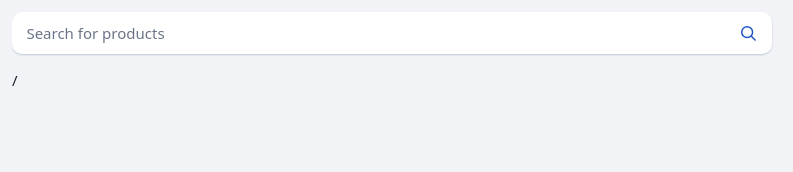
Test: SearchBox suggestions › shows initials instead of a picture for a product without an image
Type "lamp" into the dropdown named "Search products".
click(368, 33); type("lamp")  # box [12,12,724,54]
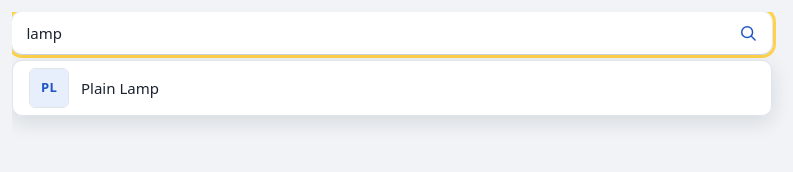
Result: the option "PL Plain Lamp" is shown at [29,68,159,108]
